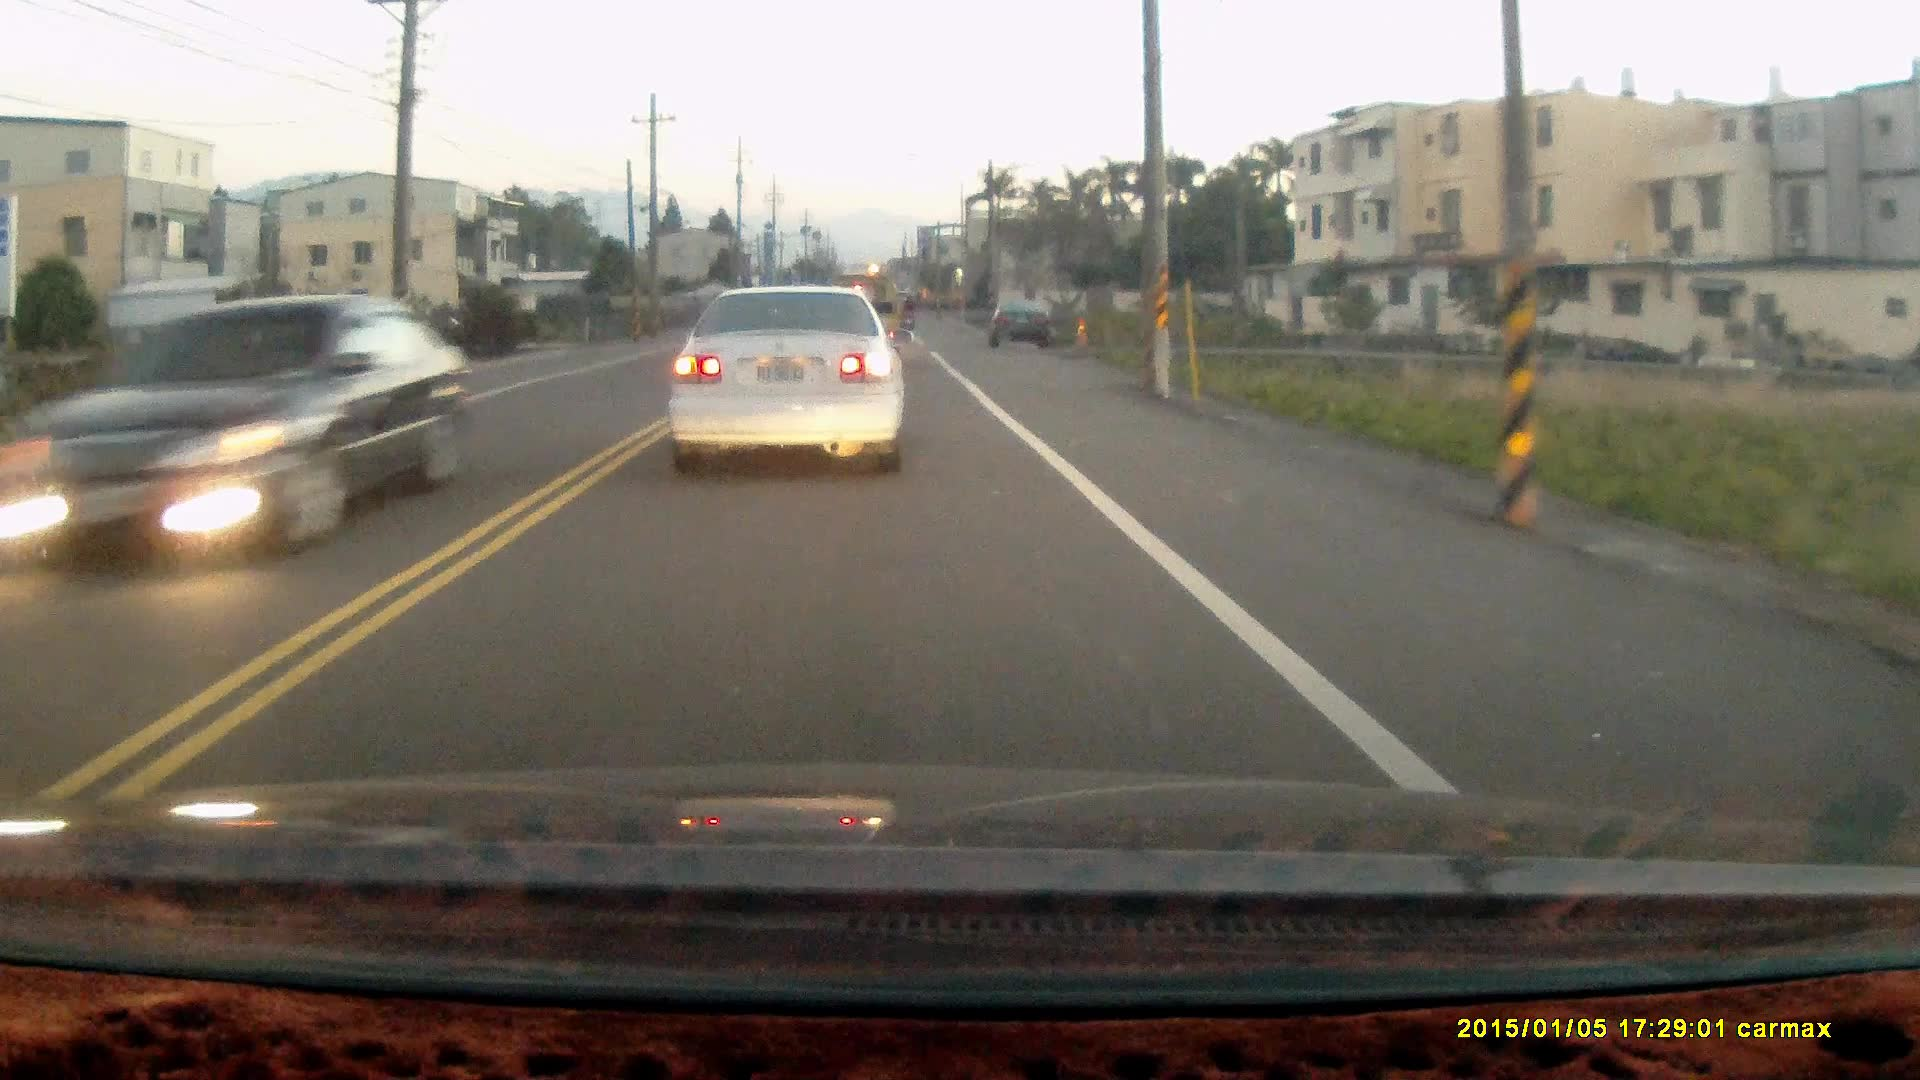vehicle: (1, 294, 479, 578), (665, 291, 906, 488), (994, 295, 1065, 353)
